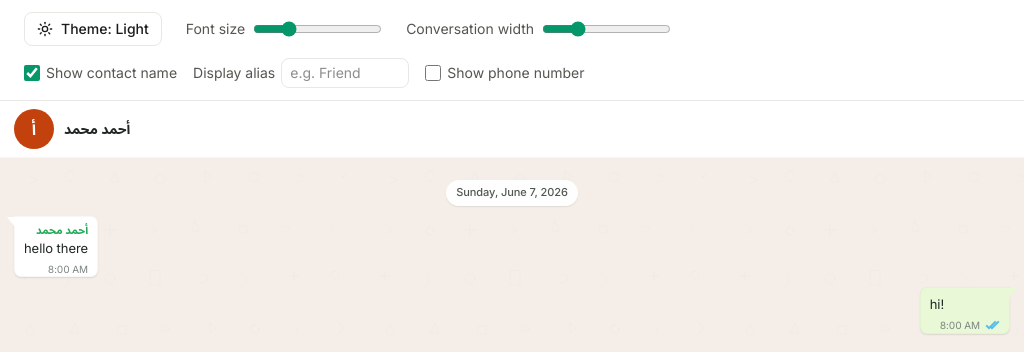
PreviewToolbar — real-time privacy (US6, FR-020/FR-021) › shows and hides the phone number in the conversation header
Expected: the text "hello there" is shown, [24,239,88,258]
Expected: the text "+966501234567" is not shown
Click the checkbox labelled "Show phone number".
click(433, 73)  # box [425,65,441,81]
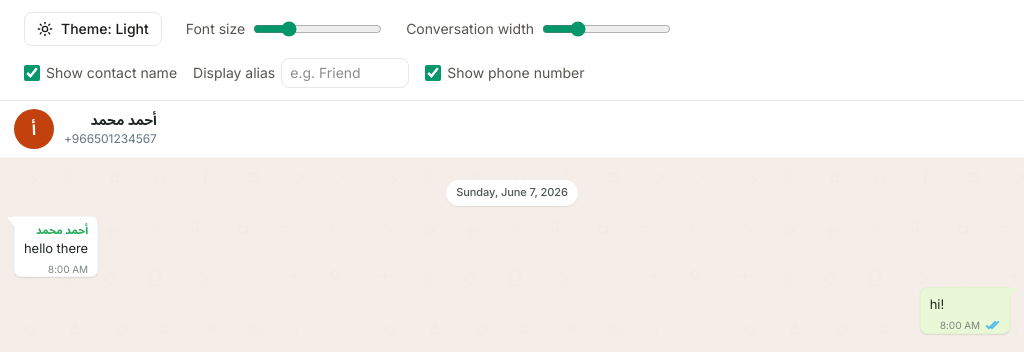
Now the text "+966501234567" is shown, box [64,130,157,148]
Click the checkbox labelled "Show phone number".
click(433, 73)  # box [425,65,441,81]
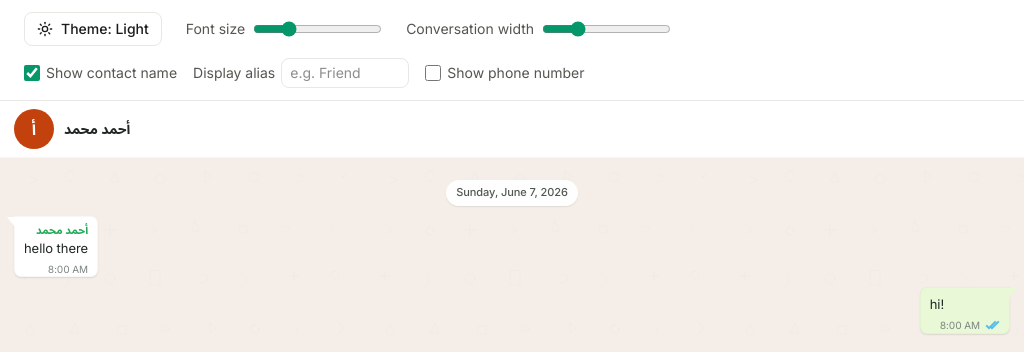
Now the text "+966501234567" is gone
